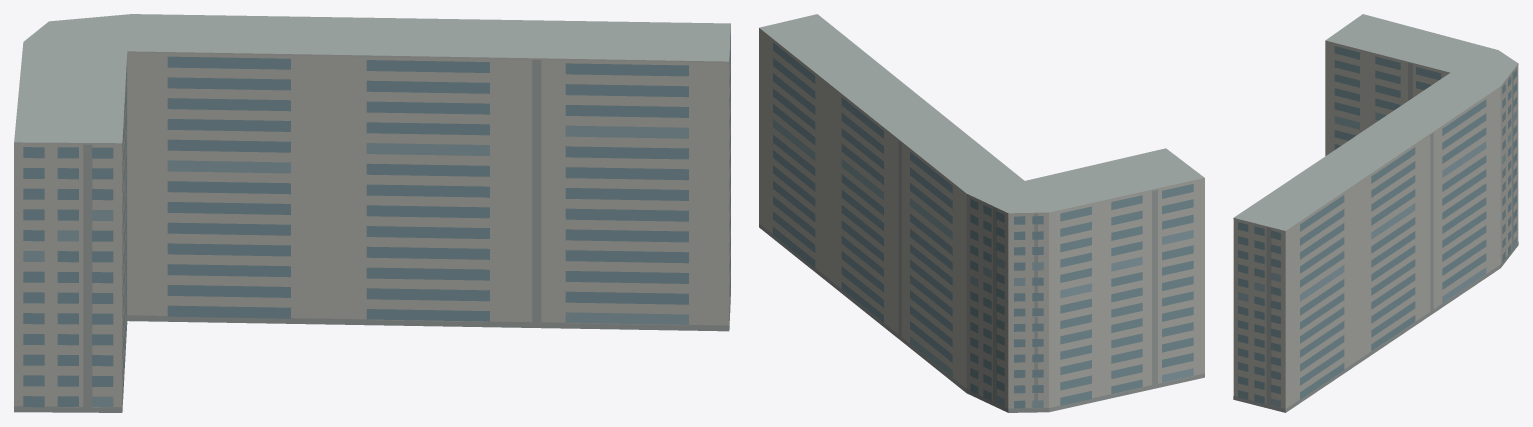
File: residential-7e4f0cb2-5d0c-4986-84de-119f628c84f6.glb
The picture shows the model from 3 angles, left to right: view 1: azimuth 30°, elevation 25°; view 2: azimuth 150°, elevation 25°; view 3: azimuth 270°, elevation 25°; orthographic projection. The views are drawn at different scales.
Visible parts, largest first — view 1: residential-7e4f0cb2-5d0c-4986-84de-119f628c84f6.tmp; view 2: residential-7e4f0cb2-5d0c-4986-84de-119f628c84f6.tmp; view 3: residential-7e4f0cb2-5d0c-4986-84de-119f628c84f6.tmp.
Boxes of the visible parts, left/top/right/bottom form: residential-7e4f0cb2-5d0c-4986-84de-119f628c84f6.tmp: left=14, top=14, right=730, bottom=412; residential-7e4f0cb2-5d0c-4986-84de-119f628c84f6.tmp: left=759, top=14, right=1204, bottom=412; residential-7e4f0cb2-5d0c-4986-84de-119f628c84f6.tmp: left=1233, top=14, right=1518, bottom=412.
Bounding box in the file's own units: 101 × 39.65 × 56.31.
